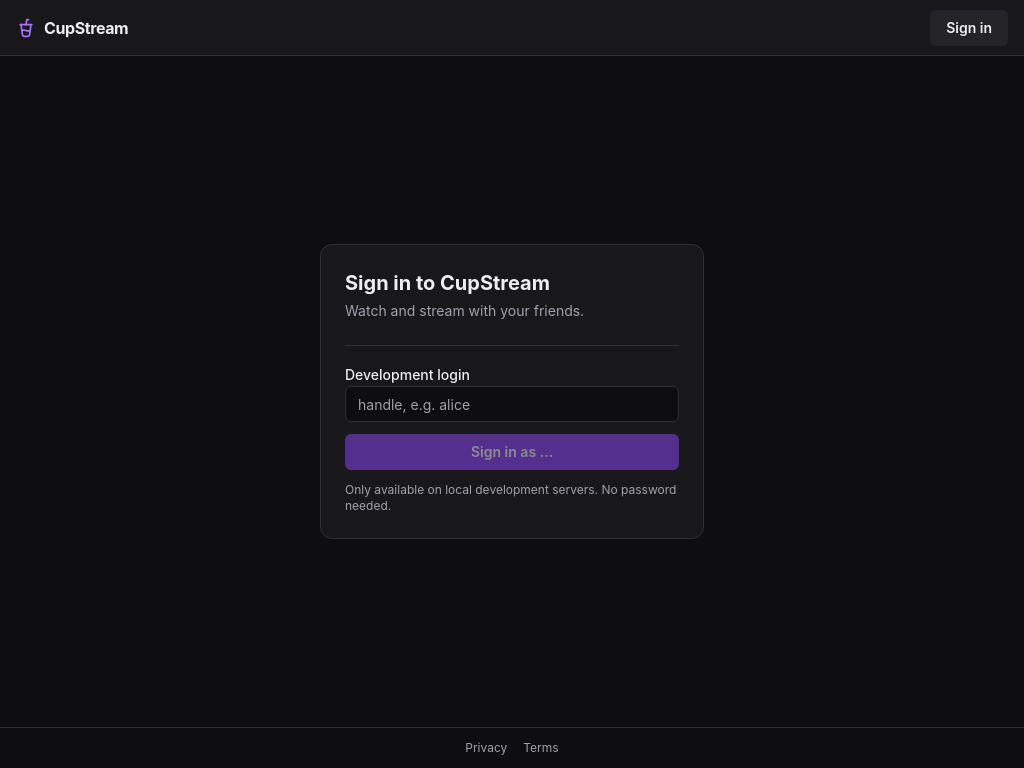
Test: development login signs in and returns home
This screenshot has width=1024, height=768.
Type "alice" into the field with placeholder "handle, e.g. alice".
click(512, 404); type("alice")  # box [345,386,679,422]
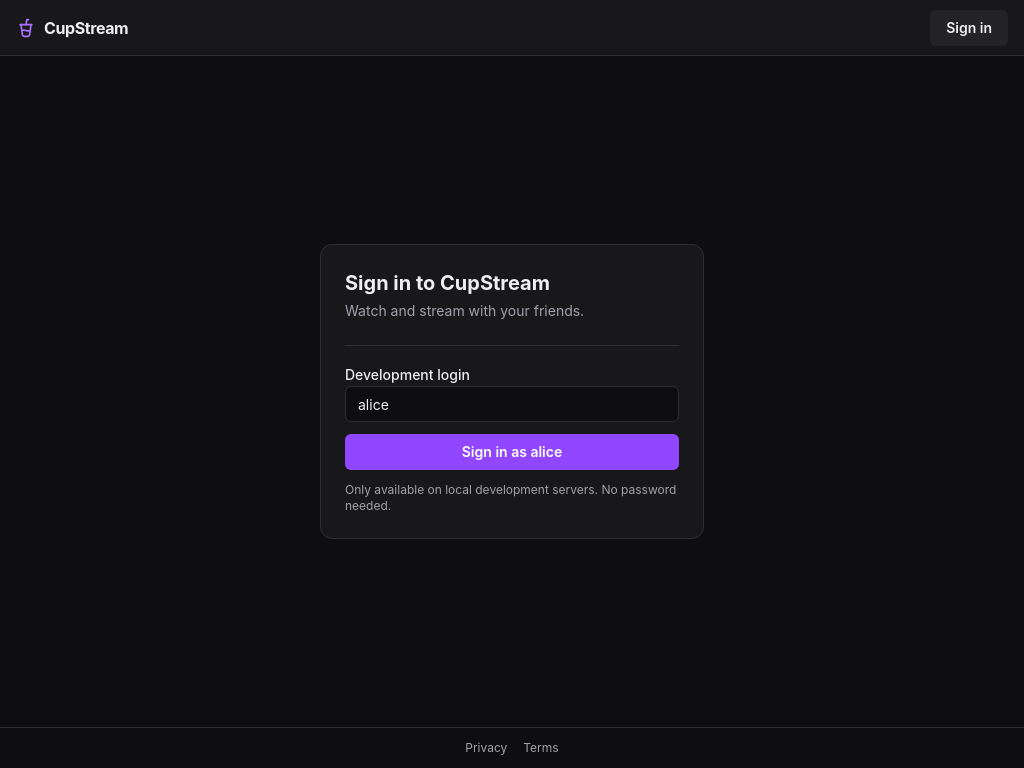
Click the button "Sign in as alice".
click(512, 452)  # box [345,434,679,470]
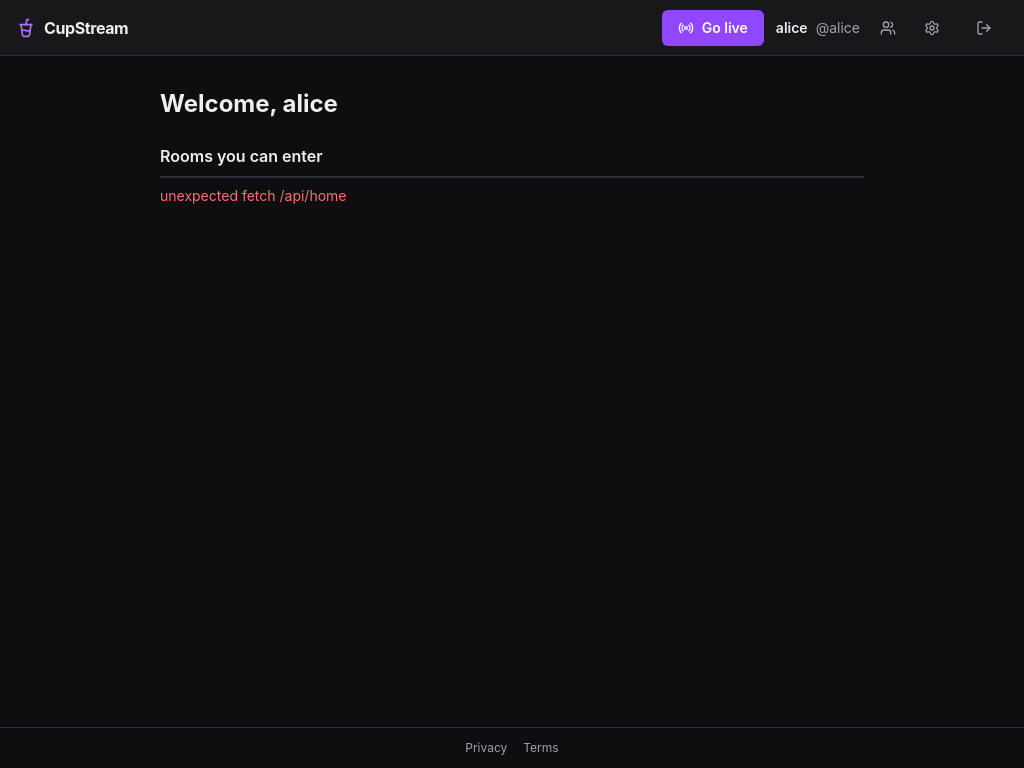
Now the heading "Welcome, alice" is shown, box [160,89,338,118]
